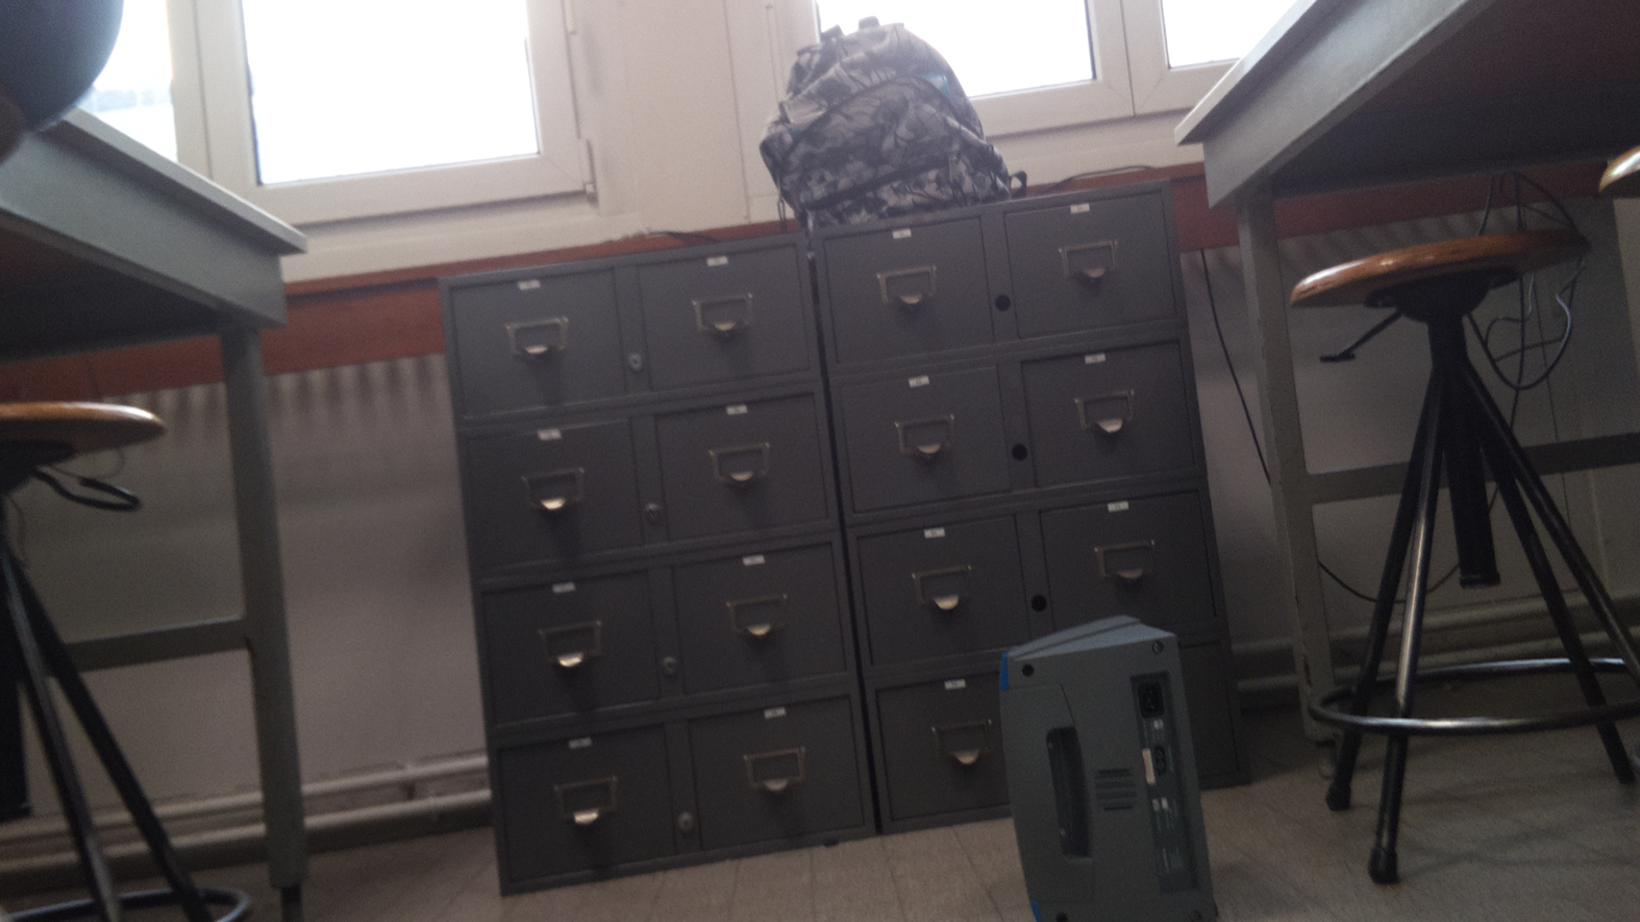big: (758, 14, 1043, 231)
medium: (984, 611, 1222, 922)
